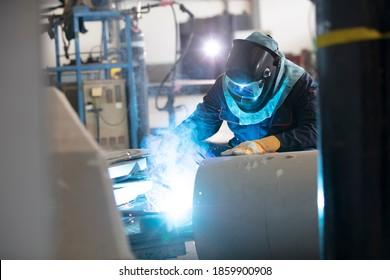gloves: (220, 135, 281, 154)
